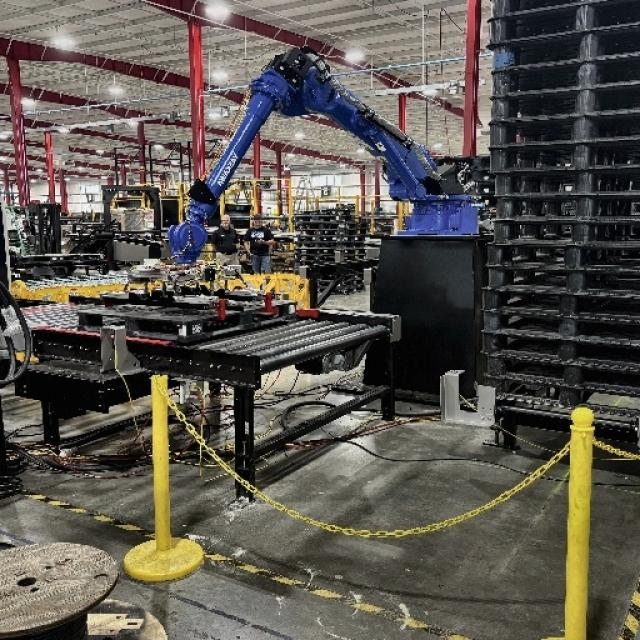igps: (73, 293, 301, 350), (483, 17, 640, 76), (478, 373, 640, 430), (487, 48, 640, 106), (485, 76, 640, 132), (483, 0, 640, 52), (485, 102, 640, 154), (485, 132, 640, 182), (476, 349, 640, 395), (475, 329, 640, 369), (483, 161, 640, 203), (475, 309, 640, 344), (479, 265, 640, 299), (477, 288, 640, 320), (489, 192, 640, 222), (484, 0, 640, 28), (483, 220, 640, 247), (482, 244, 640, 270), (290, 211, 359, 223), (292, 253, 369, 262), (316, 286, 368, 297), (293, 222, 372, 229), (290, 235, 368, 242), (292, 248, 369, 255), (316, 272, 365, 282), (290, 242, 369, 248), (316, 280, 365, 289), (290, 230, 370, 235), (326, 267, 366, 275)
